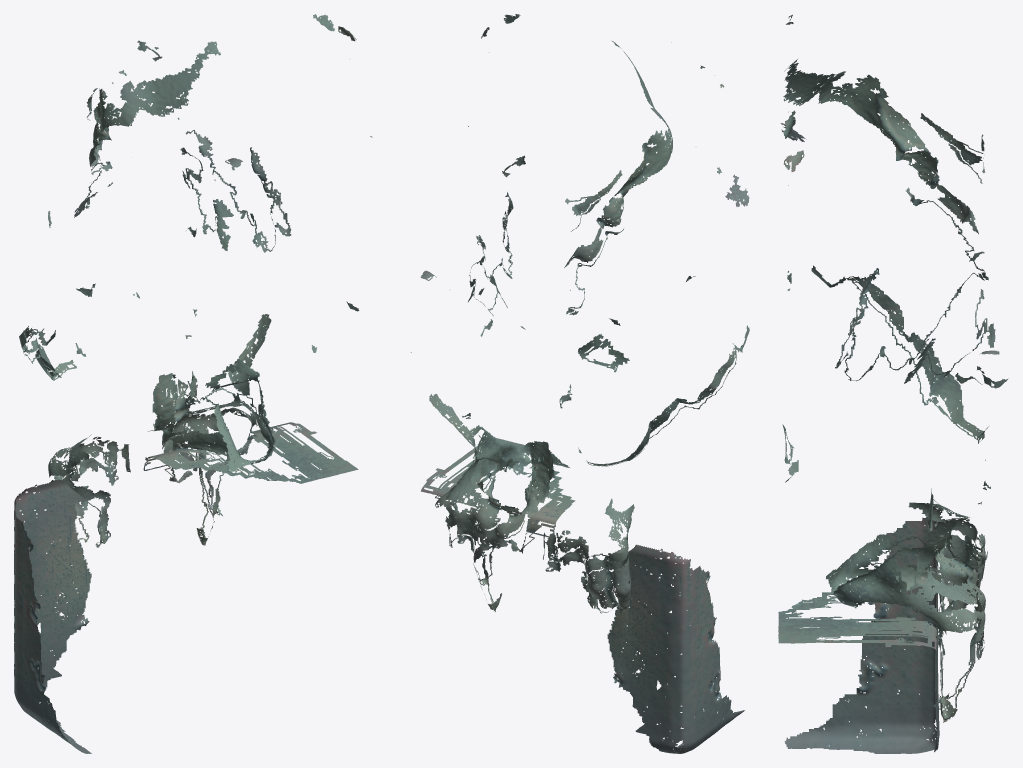
Rendered from cthulhu17_material_0.014_lev1.glb.
3 renders of one model, left to right at view 1: azimuth 30°, elevation 25°; view 2: azimuth 150°, elevation 25°; view 3: azimuth 270°, elevation 25°, orthographic. The views are drawn at different scales.
Parts seen in each view (by area): view 1: cthulhu17_material_0.014_lev1; view 2: cthulhu17_material_0.014_lev1; view 3: cthulhu17_material_0.014_lev1.
Boxes of the visible parts, x1,y1,x2,y2 form: cthulhu17_material_0.014_lev1: (14, 14, 372, 753); cthulhu17_material_0.014_lev1: (411, 14, 749, 753); cthulhu17_material_0.014_lev1: (778, 14, 1008, 753).
Size of the model in its own units: 2.51 by 5.29 by 1.44.
